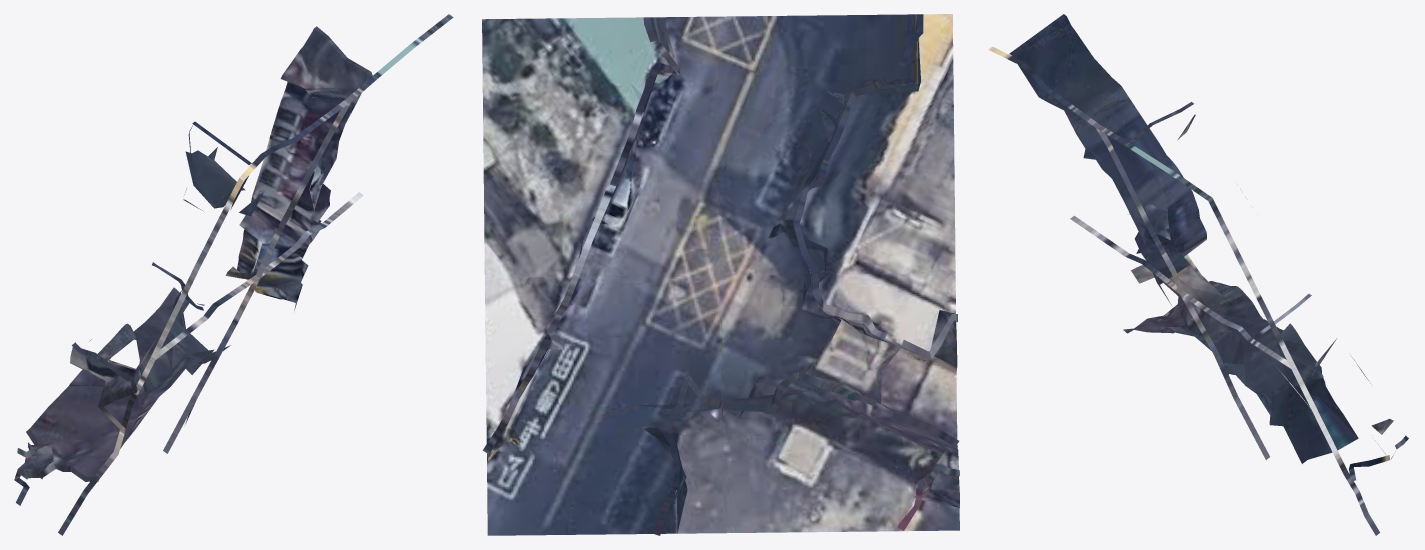
3 views of the same model, side by side, from view 1: azimuth 30°, elevation 25°; view 2: azimuth 150°, elevation 25°; view 3: azimuth 270°, elevation 25° (orthographic). The views are drawn at different scales.
Bounding box in the file's own units: 40.29 × 37.23 × 34.84.
1 material, 1 textured.
